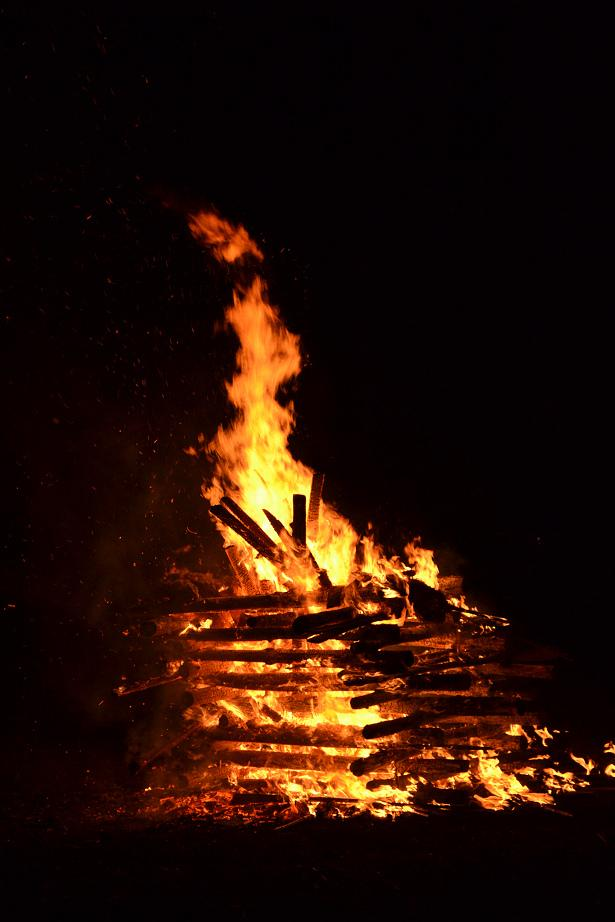fire: (222, 240, 302, 518), (245, 685, 368, 808)
